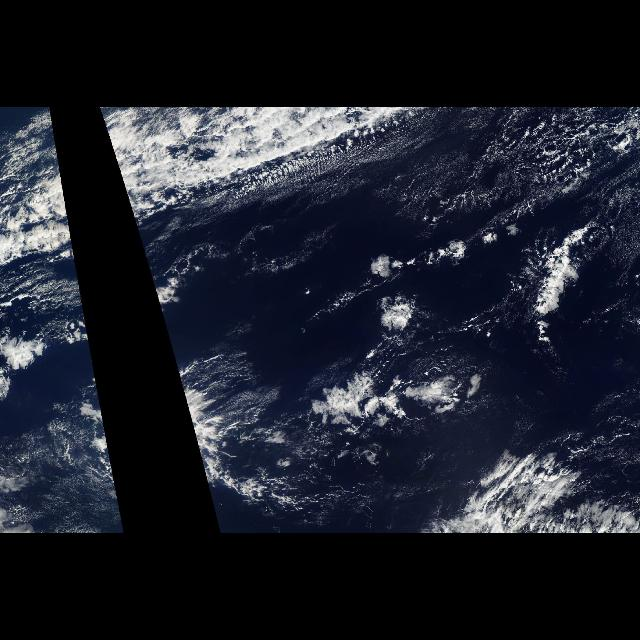Fish: (100, 109, 442, 279), (0, 109, 80, 279)
Gravel: (460, 107, 640, 261)
Sugar: (186, 116, 467, 214)
